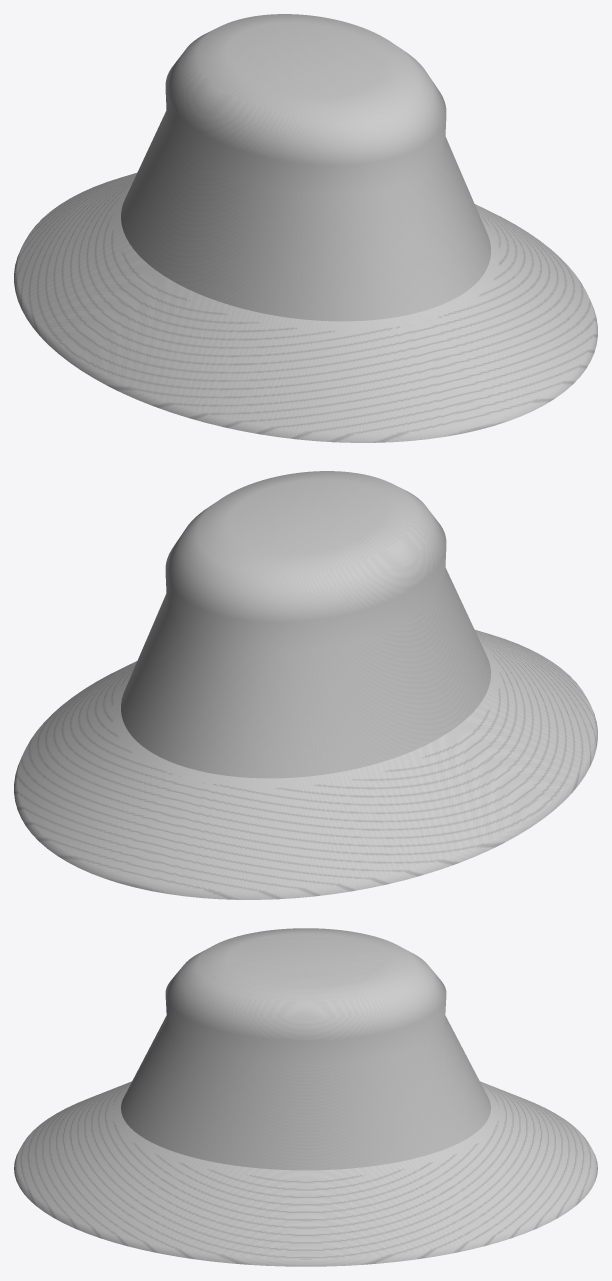
Rendered from SM_Hat_Bucket.glb.
3 renders of one model, top to bottom at view 1: azimuth 30°, elevation 25°; view 2: azimuth 150°, elevation 25°; view 3: azimuth 270°, elevation 25°, orthographic. The views are drawn at different scales.
Visible parts, largest first — view 1: SM_Hat_Bucket; view 2: SM_Hat_Bucket; view 3: SM_Hat_Bucket.
Part boxes in pixels (box(x1,y1,x2,y2)): SM_Hat_Bucket: box(14, 14, 597, 442); SM_Hat_Bucket: box(14, 471, 597, 899); SM_Hat_Bucket: box(14, 928, 597, 1266).
Bounding box in the file's own units: 0.2647 × 0.132 × 0.3326.
1 material, 1 textured.
